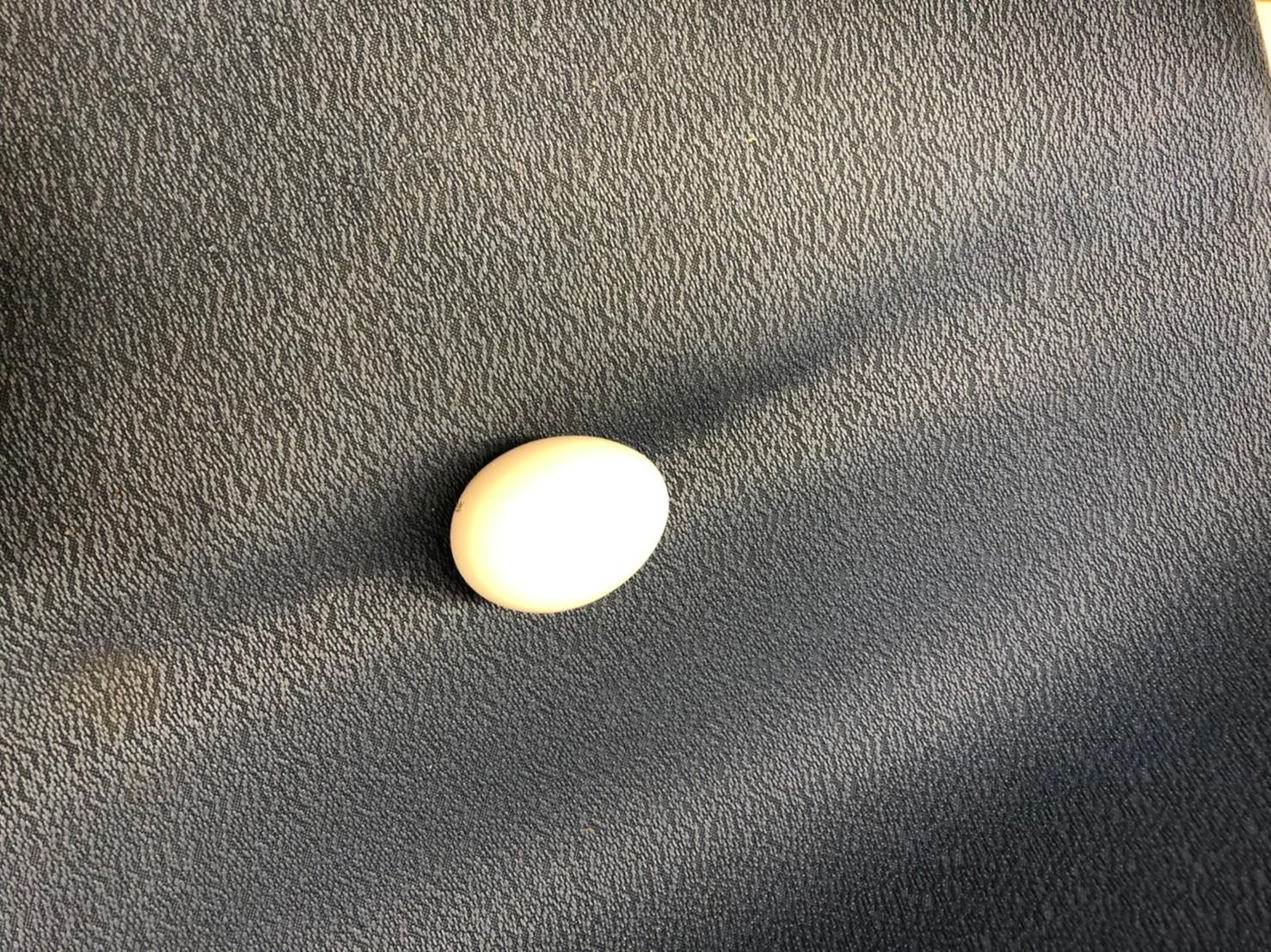egg: (442, 427, 676, 616)
